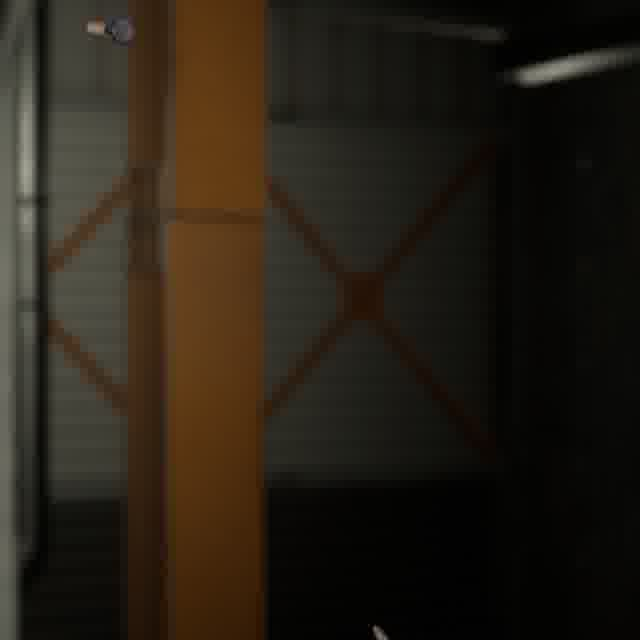bolt: (82, 13, 141, 48)
